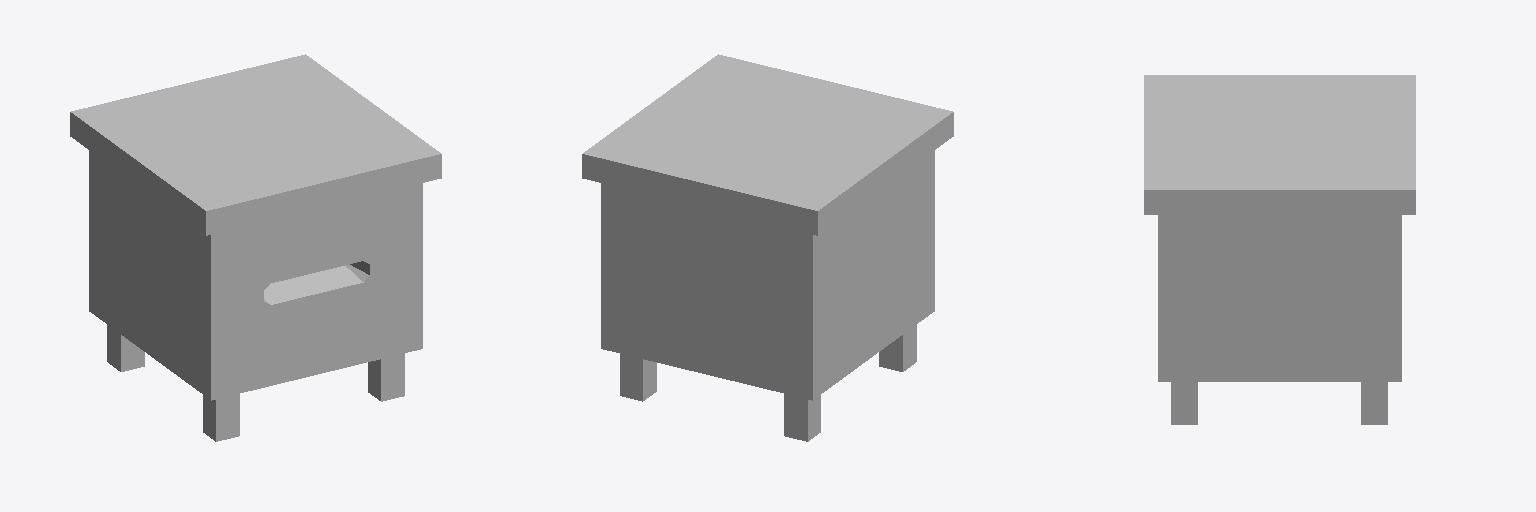
The model's file is bee_box.obj.
The picture shows the model from 3 angles: view 1: azimuth 30°, elevation 25°; view 2: azimuth 150°, elevation 25°; view 3: azimuth 270°, elevation 25°; orthographic projection.
Parts seen in each view (by area): view 1: Cube.001; view 2: Cube.001; view 3: Cube.001.
Part boxes in pixels (x1,y1,x2,y2): Cube.001: (70, 54, 441, 441); Cube.001: (582, 54, 953, 441); Cube.001: (1144, 75, 1415, 424).
Size of the model in its own units: 1 by 1 by 1.